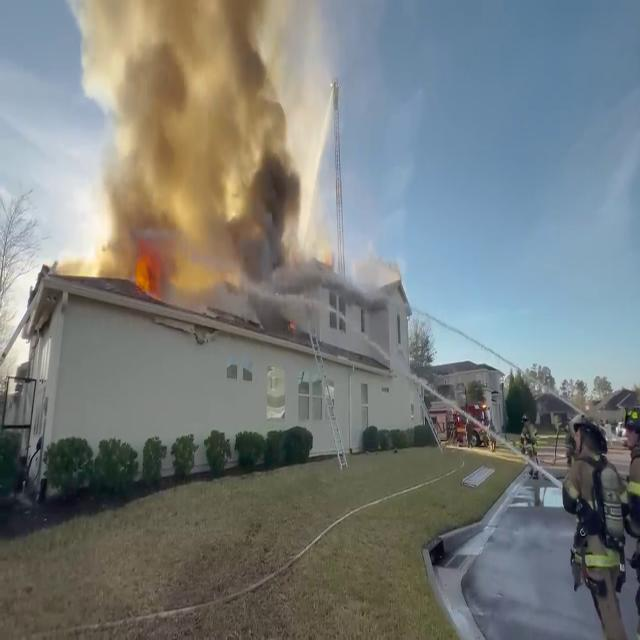Fire: (125, 254, 157, 292)
Smoke: (82, 0, 336, 288)
